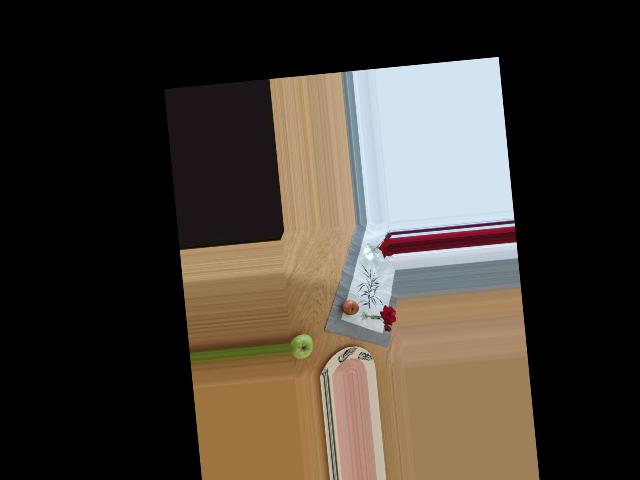apple: (288, 332, 315, 361)
